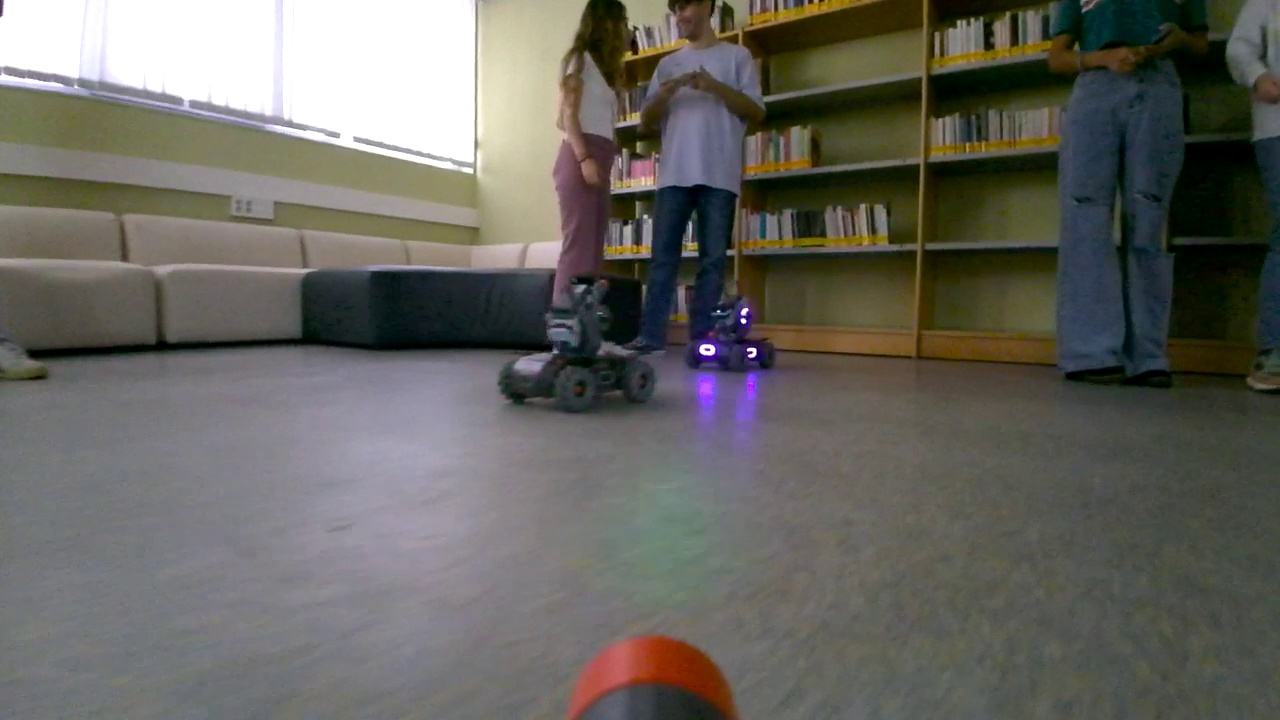robot: (499, 276, 656, 414), (682, 295, 777, 370)
